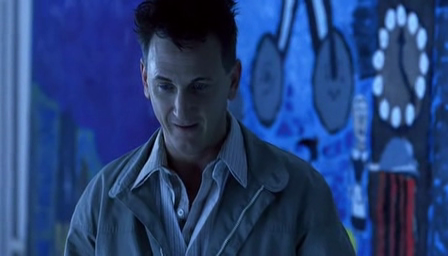face: (146, 52, 222, 160)
mcu: (1, 1, 448, 256)
person: (63, 1, 357, 255)
